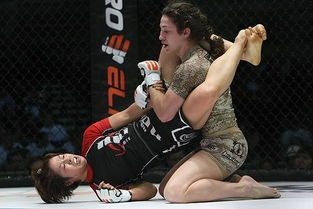falling: (25, 0, 282, 205)
